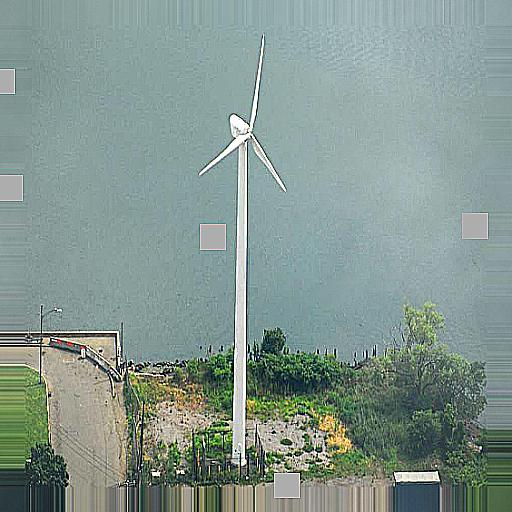wind turbine: (196, 32, 287, 459)
